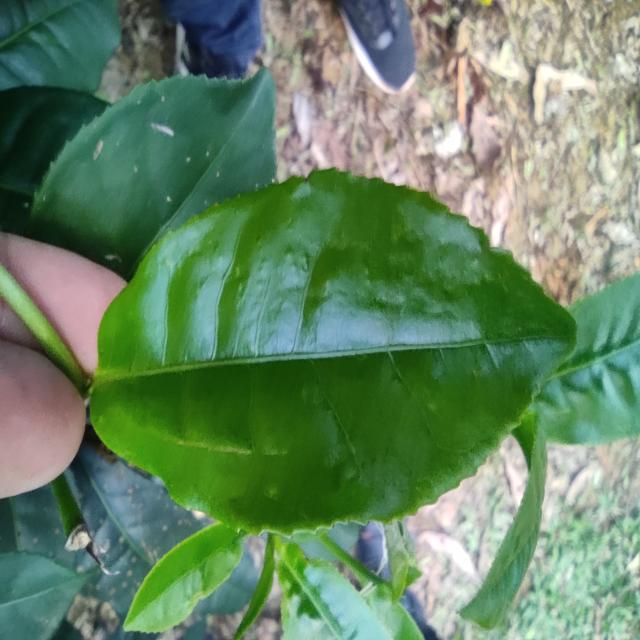Category C(4-7 days): (50, 154, 594, 533)
